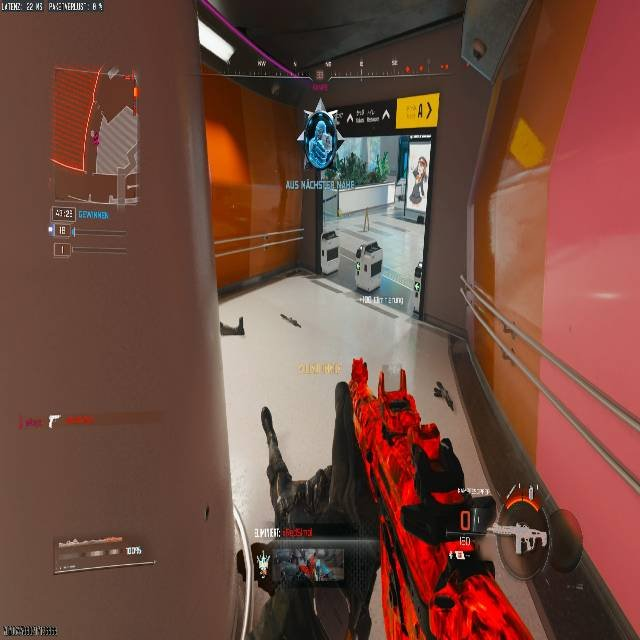player: (300, 103, 343, 189)
